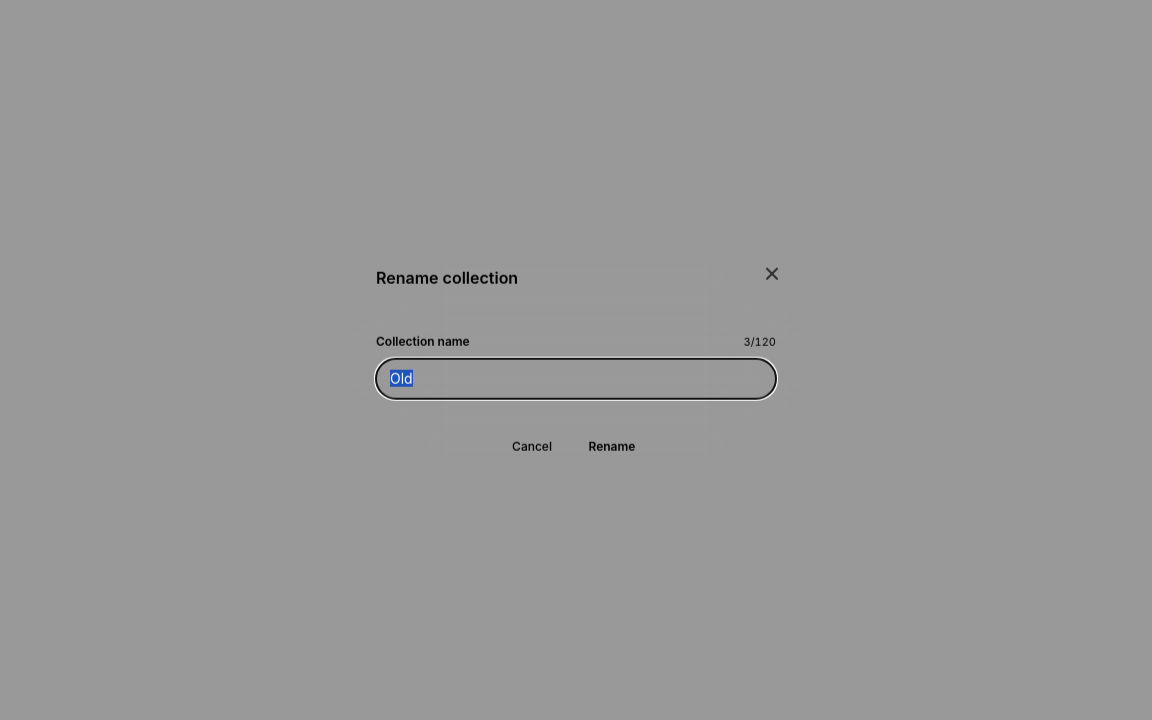
Test: NameDialog › shows the error when submitting fails
This screenshot has width=1152, height=720.
In the field labelled "Collection name": (576, 378) [376,358,776,398], type " 2"
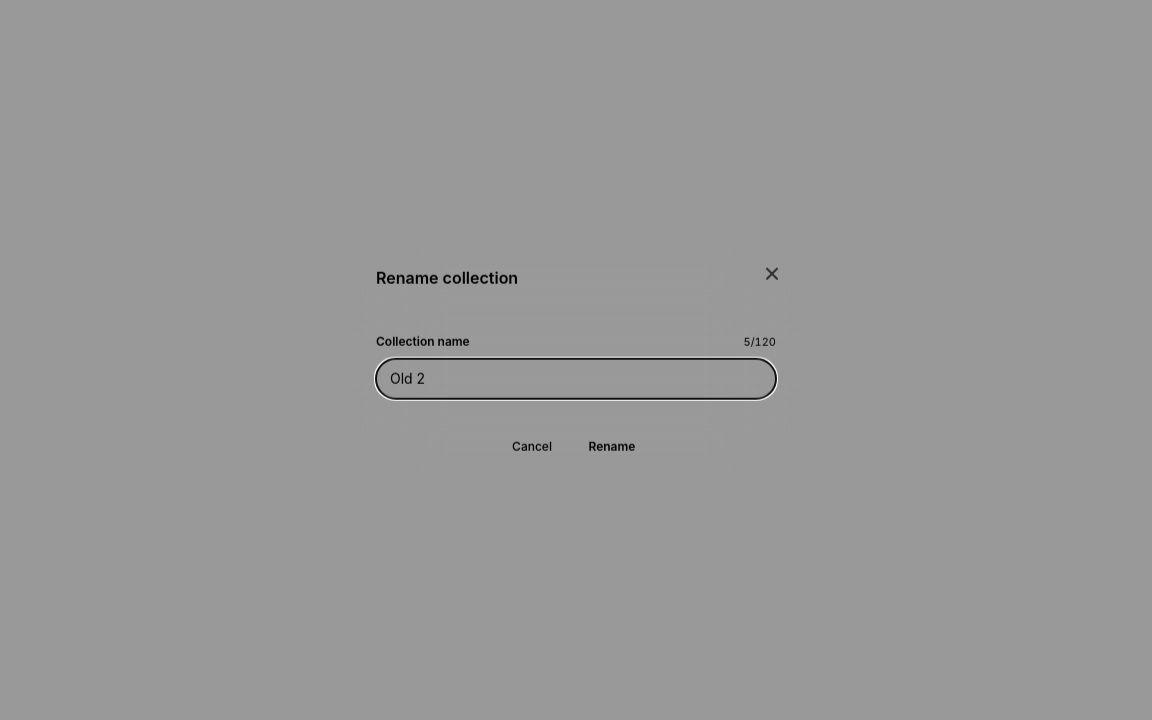
Click the button "Rename": (612, 446) [572,432,652,460]
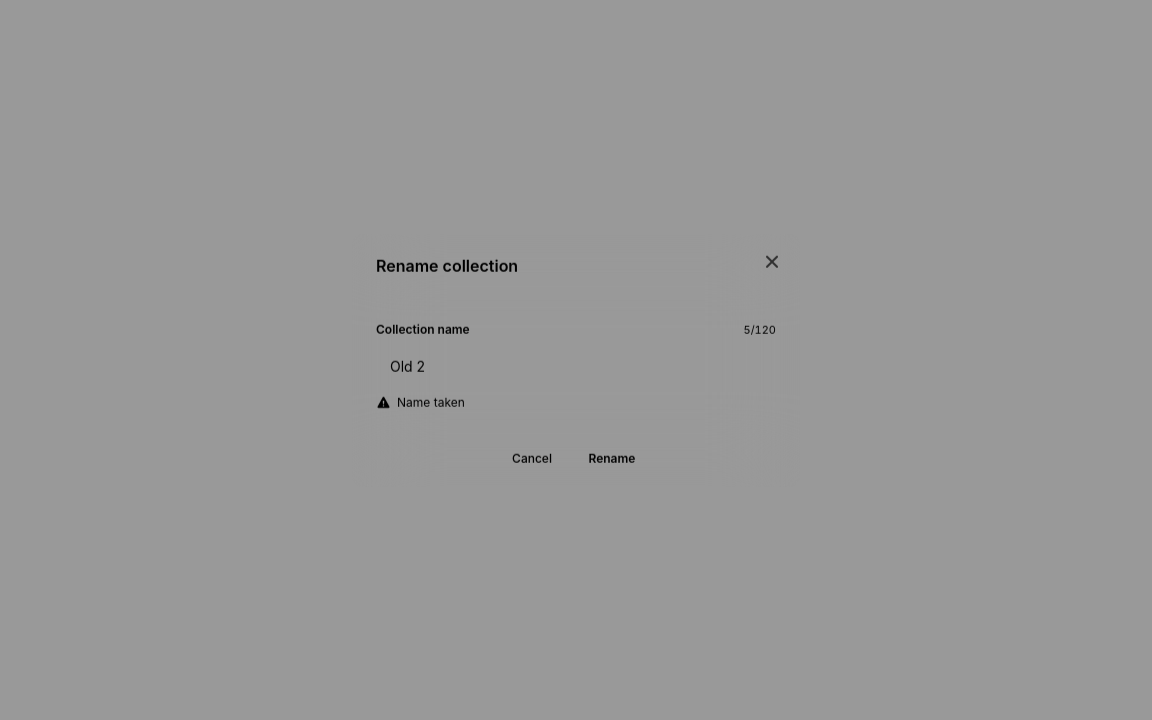
Expected: the message reads "Name taken", [397,394,465,409]
